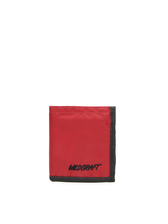other: (43, 99, 123, 184)
